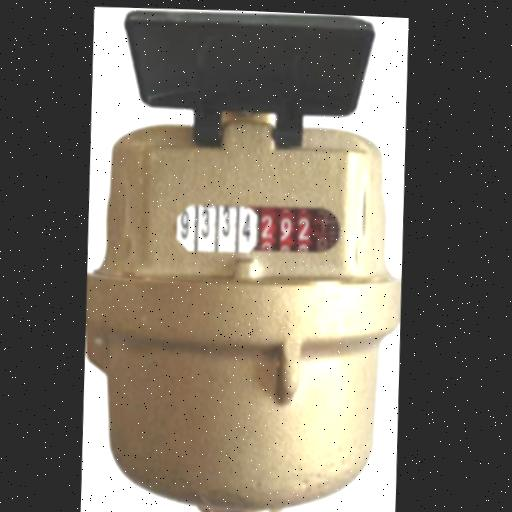2: (259, 207, 280, 253), (295, 209, 316, 253)
3: (196, 205, 217, 252), (218, 206, 239, 253)
4: (237, 207, 260, 252)
7: (314, 208, 341, 255)
9: (174, 205, 197, 251), (277, 208, 297, 254)
border_water_meter_number: (175, 201, 342, 259)
